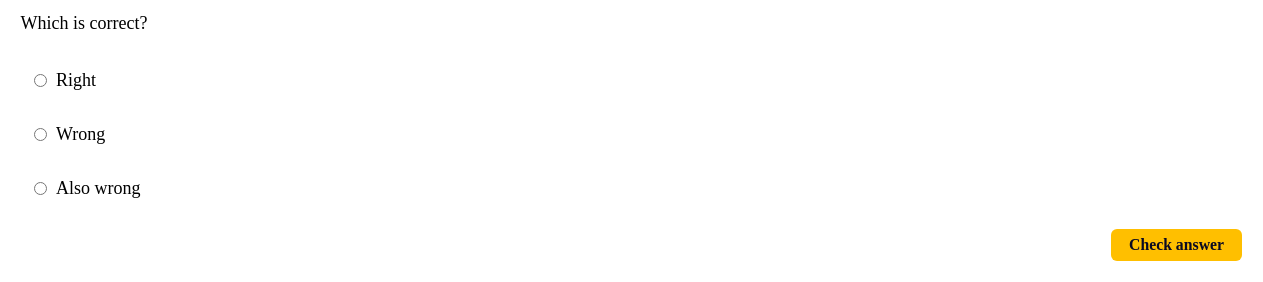
Test case: MultipleChoice › shows unanswered feedback when checking without a selection
The image size is (1263, 282).
Click the button "Check answer" at coordinates (1177, 245), box 1111,228 -> 1242,261
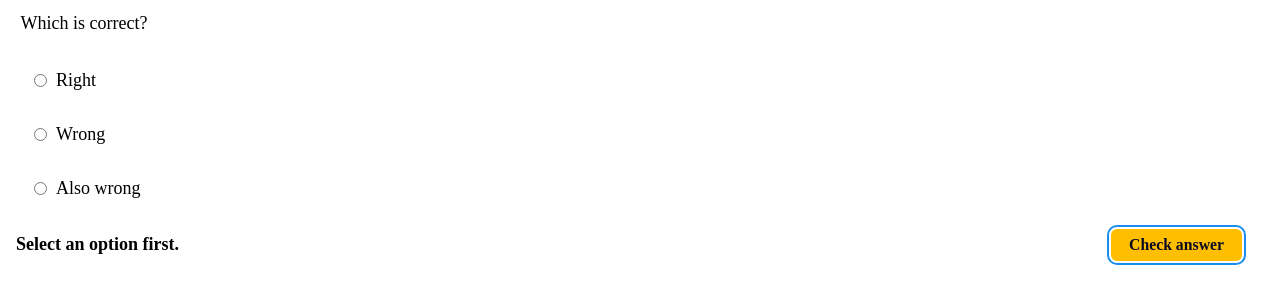
expect the message reads "Select an option first.": met, box 16,234 -> 179,254
